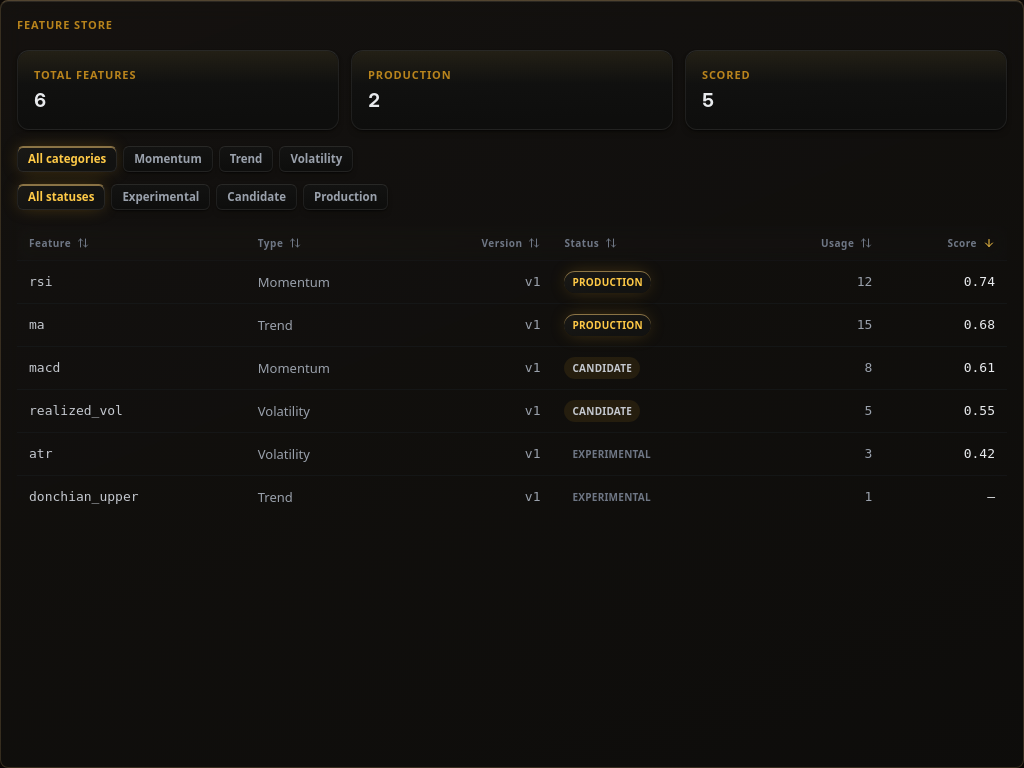
Test: FeatureStorePanel › refetches with category query param when a category pill is selected
Expected: the row with test id "feature-store-row-rsi" is shown, [17, 260, 1007, 304]
Click the radio button labelled "Momentum".
click(168, 159)  # box [123, 146, 213, 172]
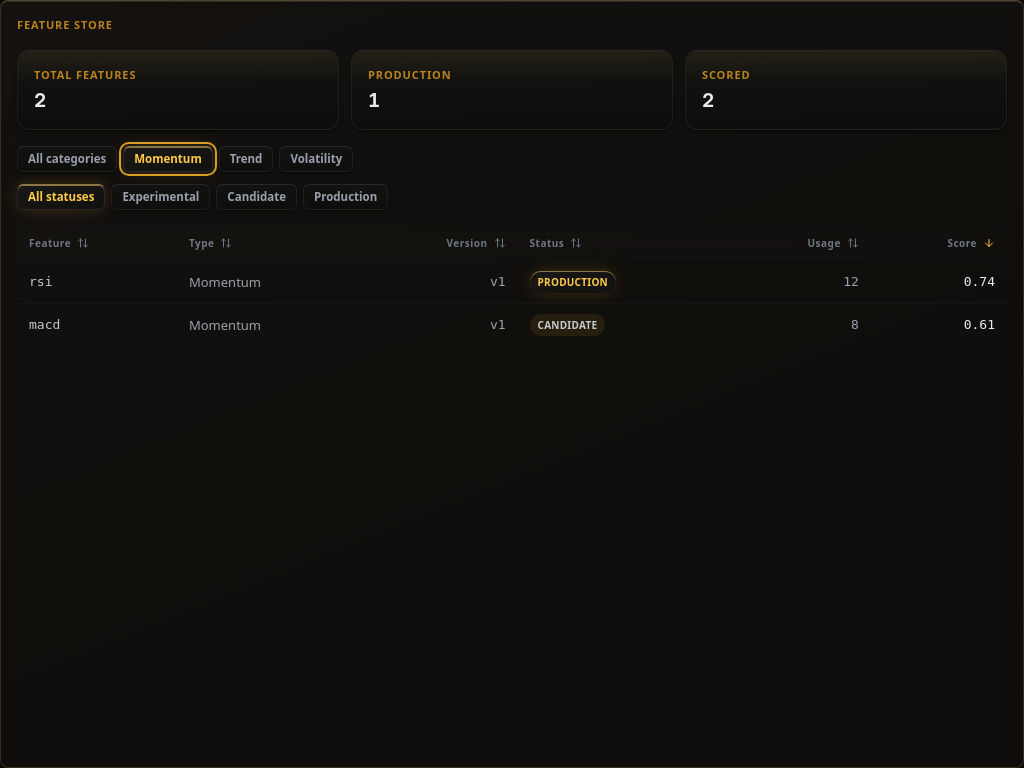
Expected: the row with test id "feature-store-row-rsi" is shown, [17, 260, 1007, 304]
Expected: the row with test id "feature-store-row-ma" is gone
